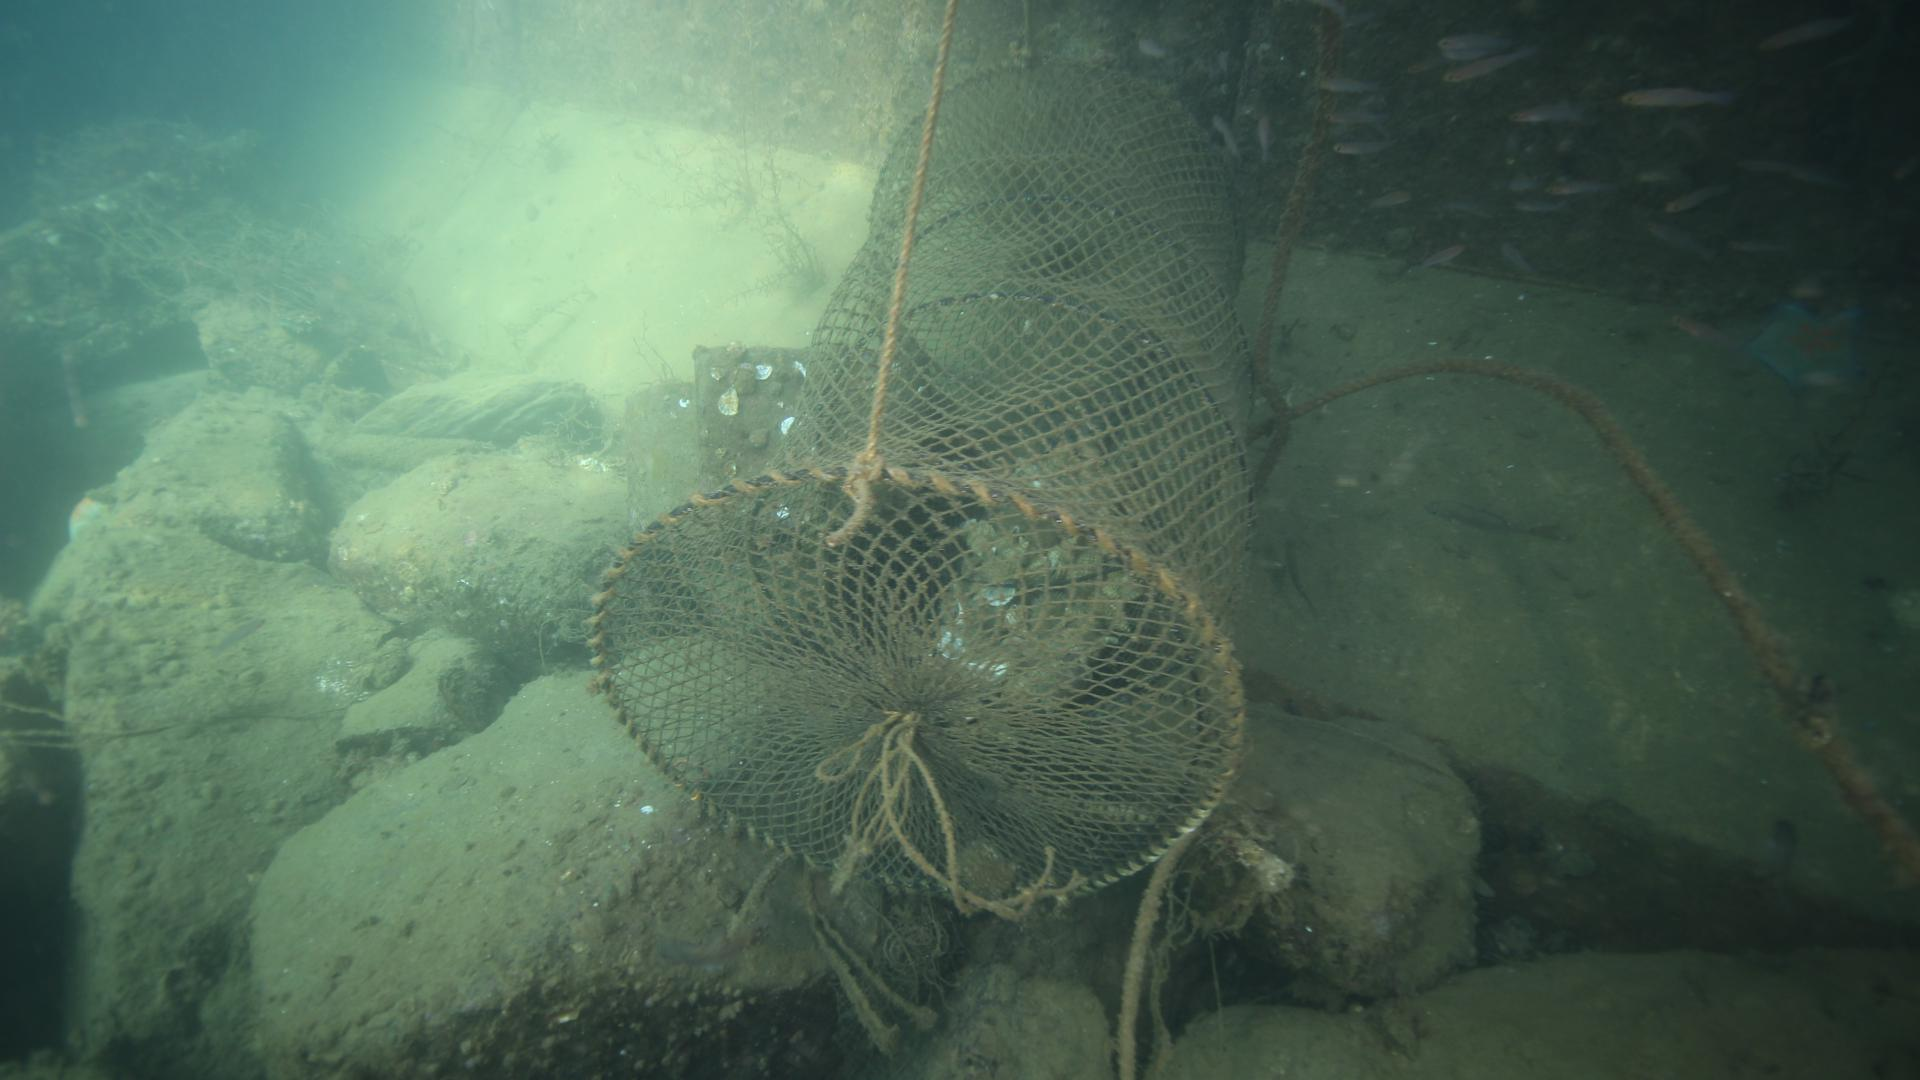bundle of ropes: (827, 0, 957, 541)
rope: (1250, 353, 1920, 902), (1250, 131, 1321, 491)
spring fish trap: (583, 61, 1246, 913)
